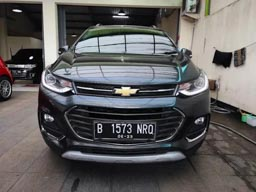plat: (94, 121, 155, 134)
